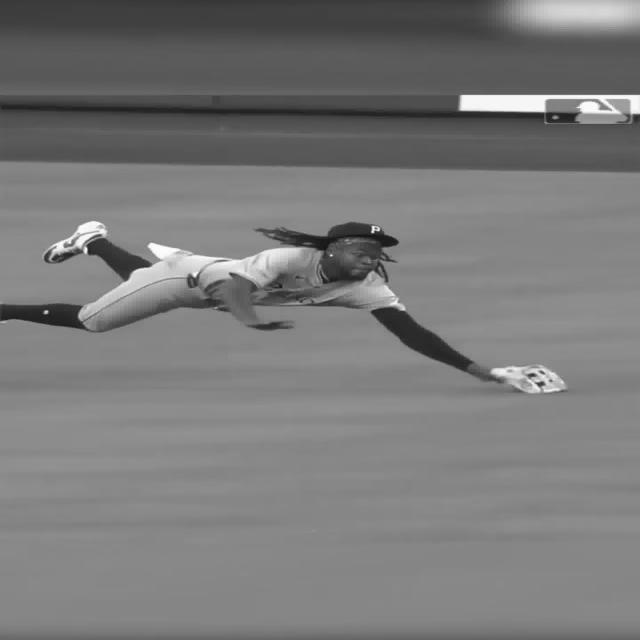baseball_glove: (489, 363, 572, 397)
shoe: (44, 218, 111, 268)
